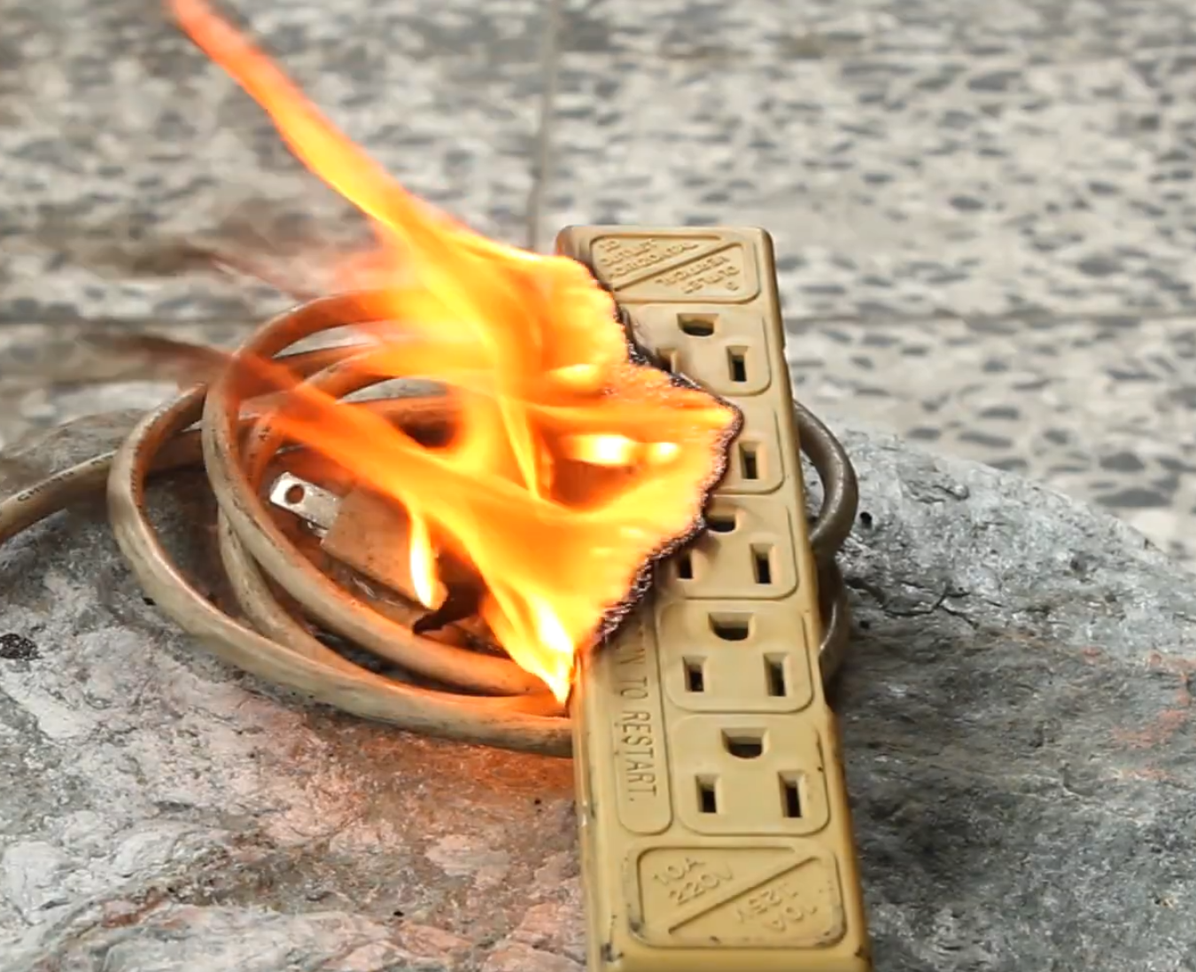Fire: (93, 1, 770, 704)
